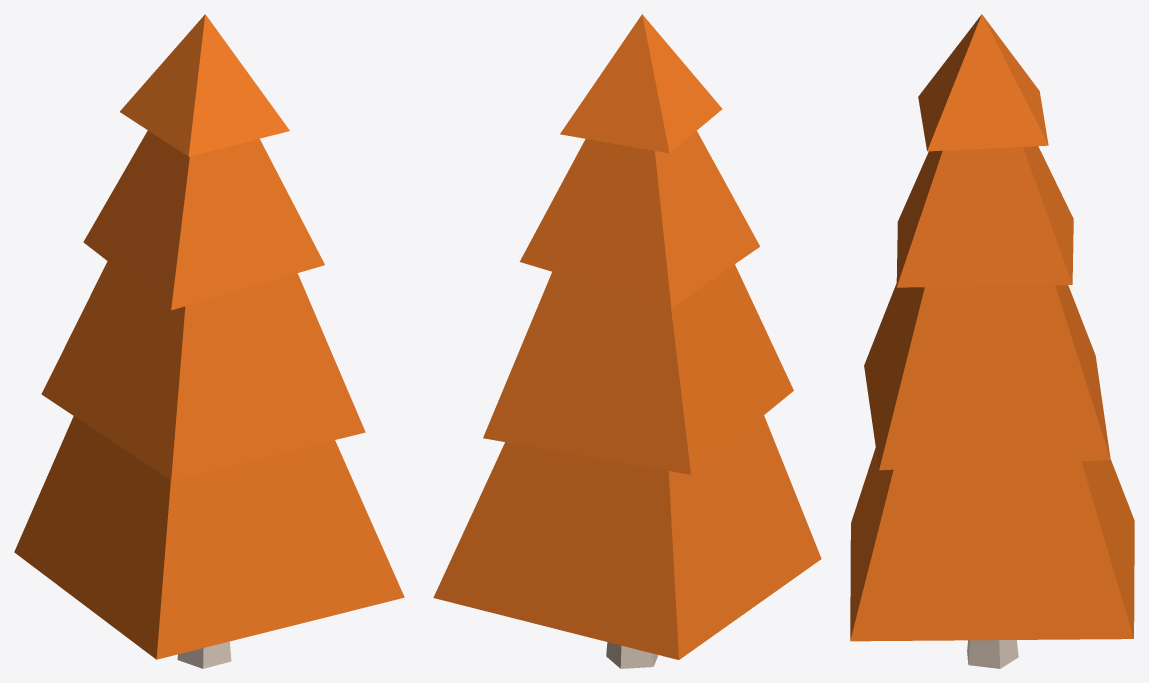
The model's file is tree-fir_orange.glb.
The picture shows the model from 3 angles, left to right: view 1: azimuth 30°, elevation 25°; view 2: azimuth 150°, elevation 25°; view 3: azimuth 270°, elevation 25°; orthographic projection.
Visible parts, largest first — view 1: tree-fir_orange; view 2: tree-fir_orange; view 3: tree-fir_orange.
Part boxes in pixels (x1,y1,x2,y2): tree-fir_orange: (14, 14, 404, 668); tree-fir_orange: (433, 14, 821, 668); tree-fir_orange: (850, 14, 1134, 668).
Bounding box in the file's own units: 2.33 × 5.79 × 2.33.
Materials: 1 (1 with a texture image).
